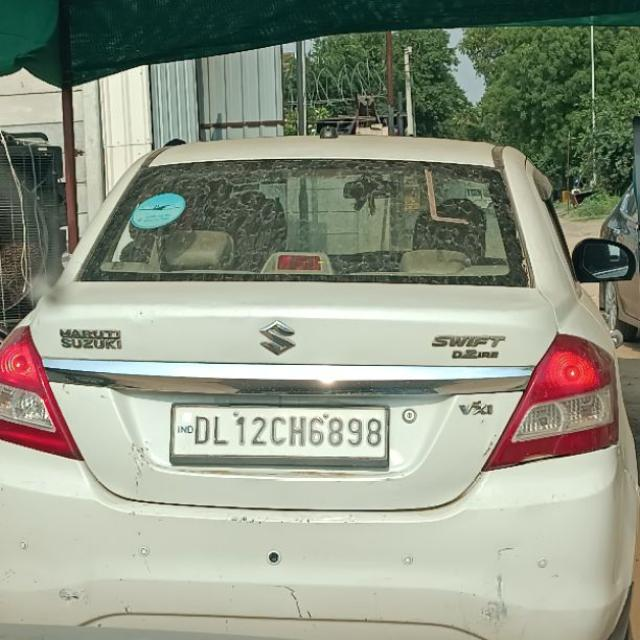license_plate: (168, 402, 390, 468)
